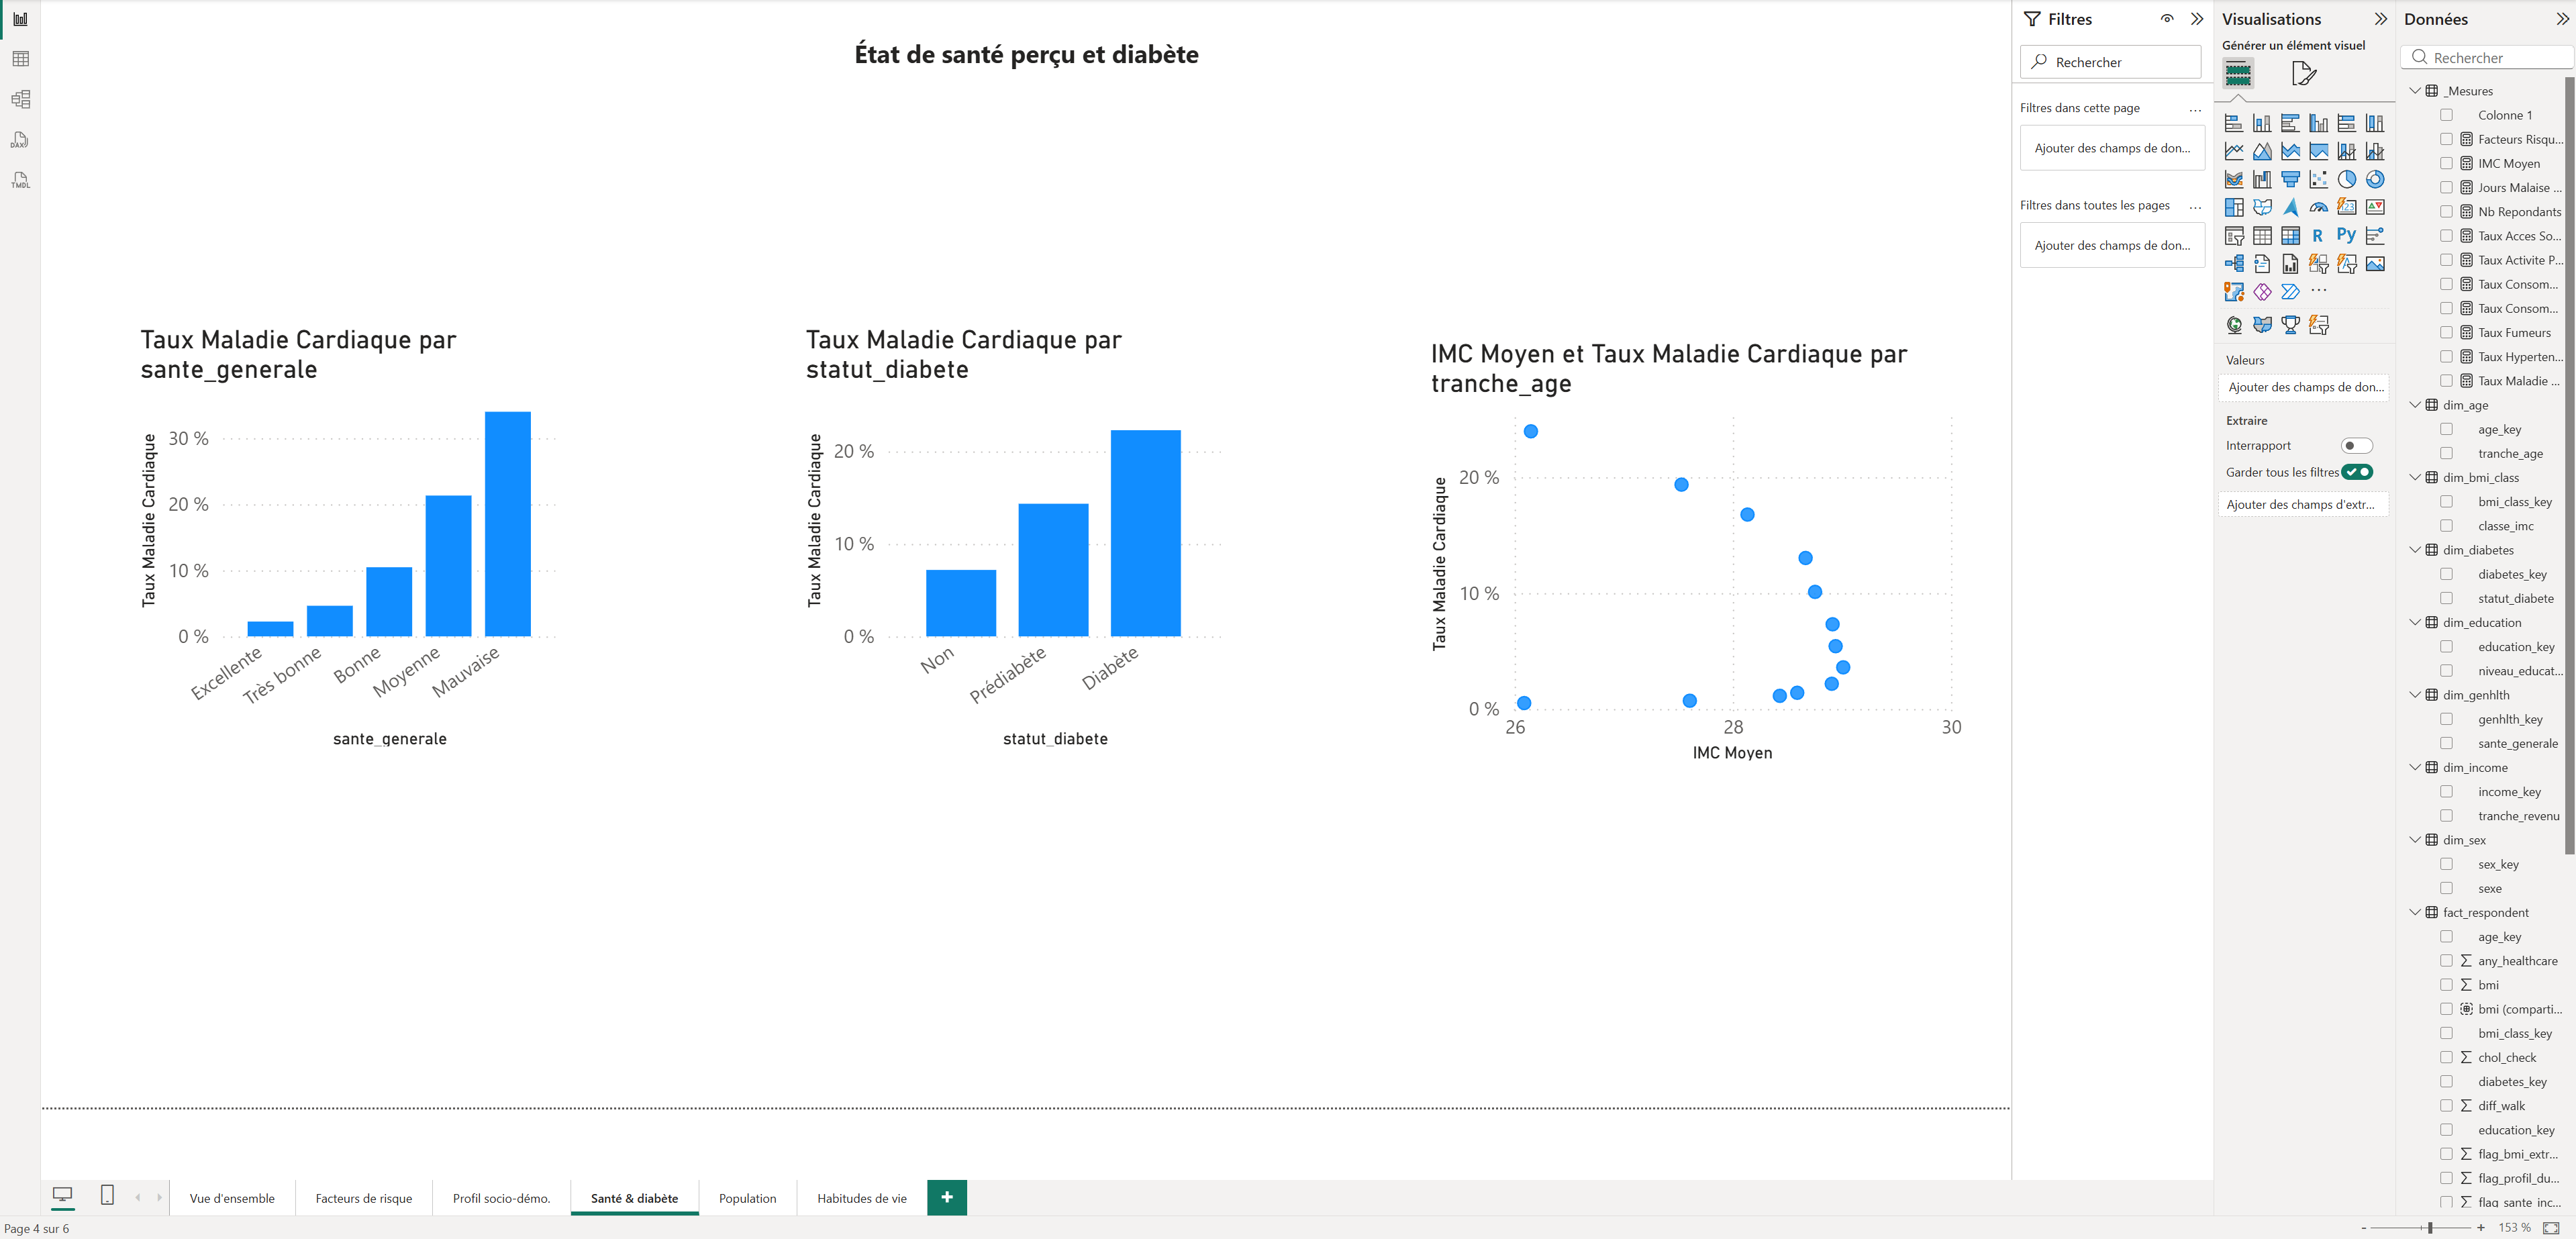

This screenshot's page, from the dashboard's own definition file:
{"tool":"powerbi","page":{"name":"Santé & diabète","canvas":[1280,720],"ordinal":3},"visuals":[{"type":"clusteredColumnChart","fields":{"Category":["dim_genhlth.sante_generale"],"Y":["_Mesures.Taux Maladie Cardiaque"]},"box":[59.5,210.6,279.9,279.9],"z":0},{"type":"clusteredColumnChart","fields":{"Category":["dim_diabetes.statut_diabete"],"Y":["_Mesures.Taux Maladie Cardiaque"]},"box":[491.8,210.6,279.9,279.9],"z":1000},{"type":"scatterChart","fields":{"X":["_Mesures.IMC Moyen"],"Y":["_Mesures.Taux Maladie Cardiaque"],"Category":["dim_age.tranche_age"]},"box":[897.9,219.7,354.4,279.9],"z":2000},{"type":"textbox","box":[500.3,19,279.9,33.4],"z":2001}]}

Visuals, with their boxes on the page's 1280x720 design canvas (x1, y1, x2, y2). These are canvas units, not pixel positions in the 2576x1239 screenshot, which may show the page scaled, cropped or inside an application window:
clusteredColumnChart - dim_genhlth.sante_generale x _Mesures.Taux Maladie Cardiaque: detection(60, 211, 339, 490)
clusteredColumnChart - dim_diabetes.statut_diabete x _Mesures.Taux Maladie Cardiaque: detection(492, 211, 772, 490)
scatterChart - _Mesures.IMC Moyen x _Mesures.Taux Maladie Cardiaque: detection(898, 220, 1252, 500)
textbox: detection(500, 19, 780, 52)
